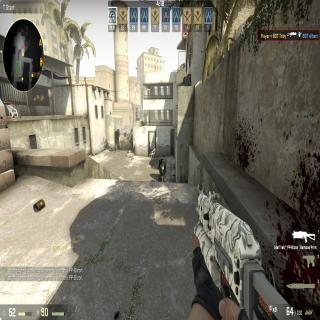CT-Body: (157, 156, 166, 182)
CT-Head: (159, 156, 163, 163)
